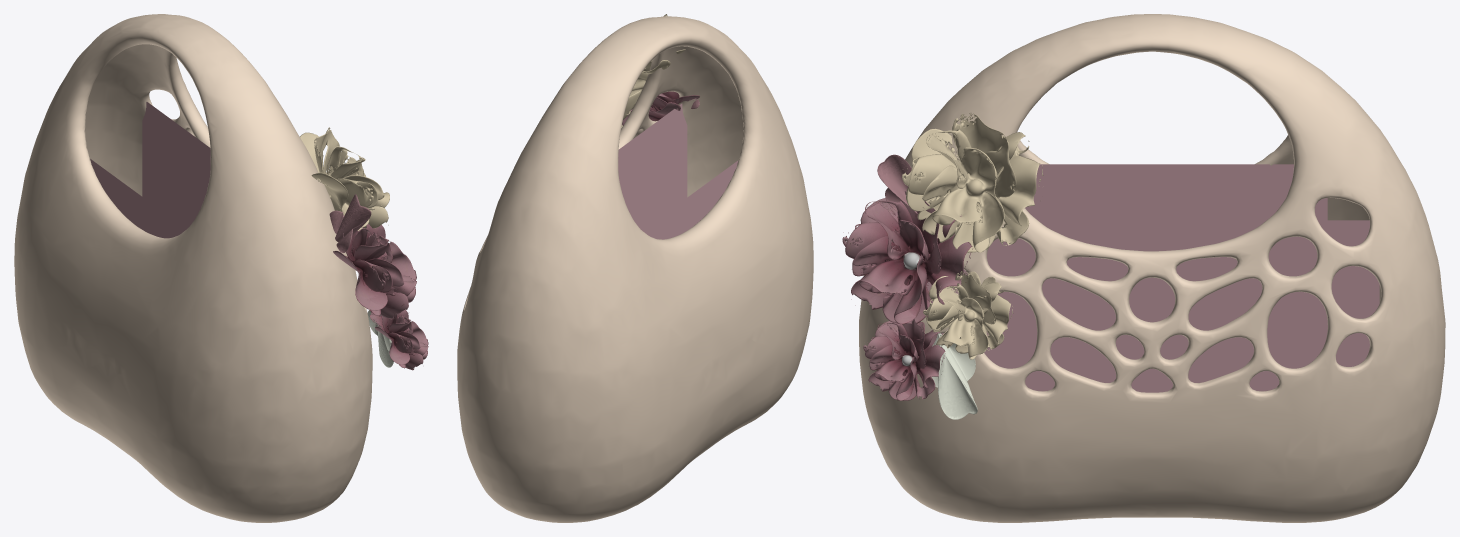
Rendered from finalbag.glb.
The picture shows the model from 3 angles, left to right: view 1: azimuth 30°, elevation 25°; view 2: azimuth 150°, elevation 25°; view 3: azimuth 270°, elevation 25°; orthographic projection. The views are drawn at different scales.
Visible parts, largest first — view 1: tripo_node_f5e665fb, Plane, tripo_node_6ec34ba1, tripo_node_6ec34ba1.001, tripo_node_33c07aba-d30b-4a7a-a6b3-65fb3c5d7b5a; view 2: tripo_node_f5e665fb, Plane, tripo_node_6ec34ba1, tripo_node_6ec34ba1.001; view 3: tripo_node_f5e665fb, Plane, tripo_node_6ec34ba1.001, tripo_node_6ec34ba1, tripo_node_33c07aba-d30b-4a7a-a6b3-65fb3c5d7b5a.
Boxes of the visible parts, box(x1,y1,x2,y2) form: tripo_node_f5e665fb: box(14, 14, 372, 522); Plane: box(90, 102, 210, 238); tripo_node_6ec34ba1: box(333, 214, 428, 370); tripo_node_6ec34ba1.001: box(300, 127, 389, 230); tripo_node_33c07aba-d30b-4a7a-a6b3-65fb3c5d7b5a: box(329, 194, 393, 367); tripo_node_f5e665fb: box(457, 16, 813, 522); Plane: box(618, 103, 738, 239); tripo_node_6ec34ba1: box(622, 91, 699, 125); tripo_node_6ec34ba1.001: box(621, 14, 685, 128); tripo_node_f5e665fb: box(859, 14, 1445, 522); Plane: box(926, 164, 1379, 392); tripo_node_6ec34ba1.001: box(902, 113, 1043, 359); tripo_node_6ec34ba1: box(842, 191, 972, 400); tripo_node_33c07aba-d30b-4a7a-a6b3-65fb3c5d7b5a: box(877, 154, 977, 419).
Bounding box in the file's own units: 12.45 × 21.84 × 25.19.
Materials: 5 (5 with a texture image).
